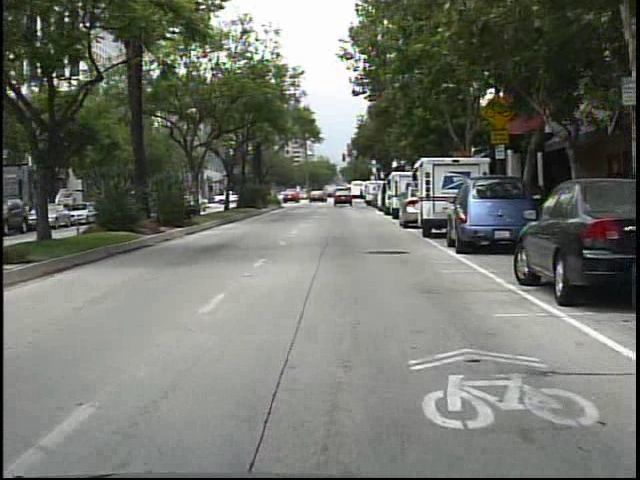person: (359, 183, 366, 204)
